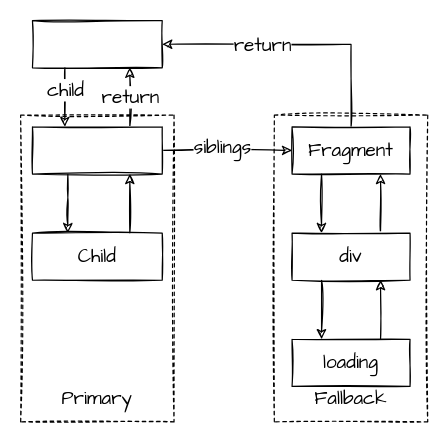
This 448x442 diagram has some shape labels left out. The box of each missing label's shape, as (x1, y1, x2, y2) in pixels:
Offscreen: (31, 126, 162, 174)
Suspense: (31, 19, 162, 68)
